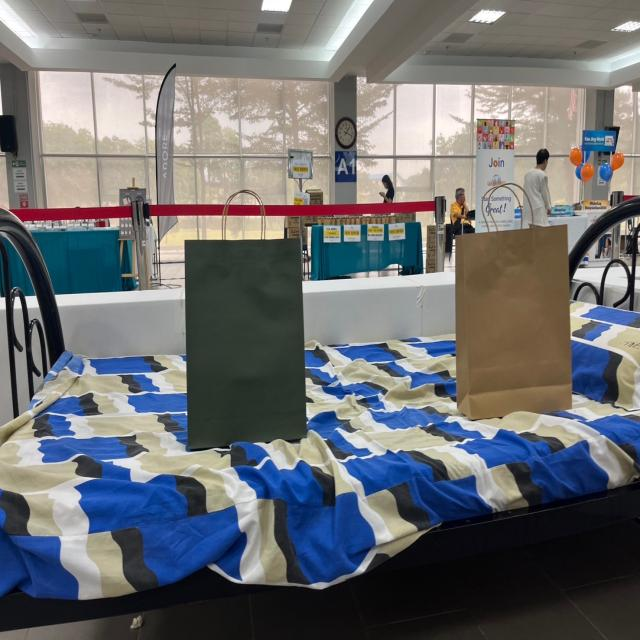bag: (184, 185, 304, 438), (458, 164, 562, 414)
